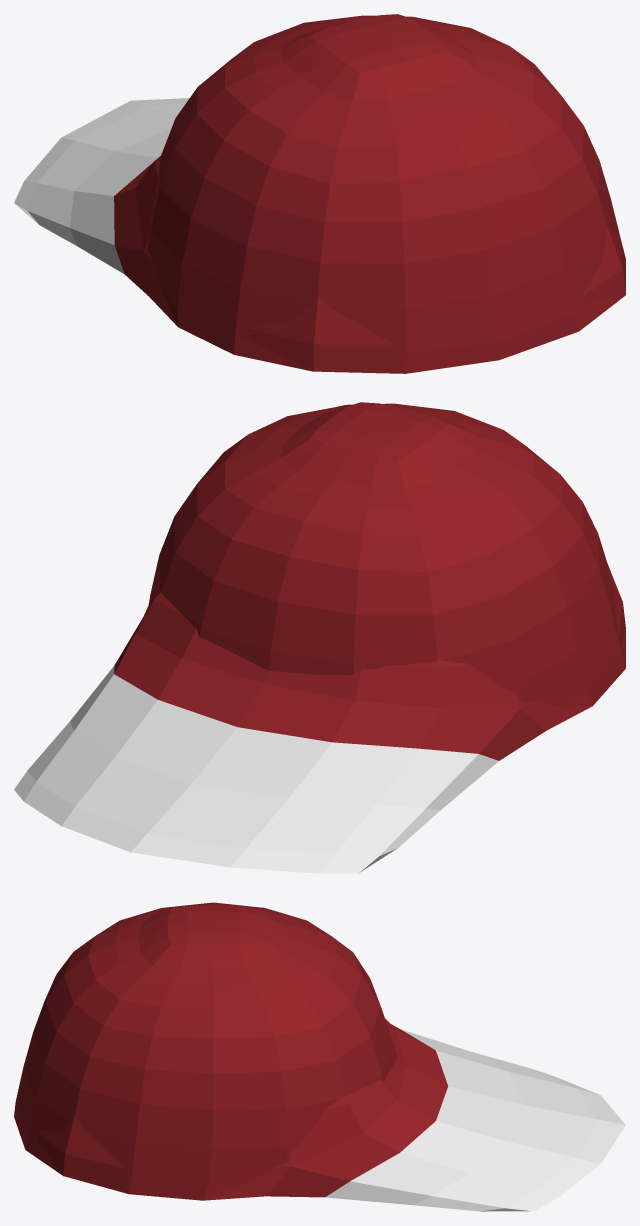
Rendered from chapeu_5.fbx.
3 views of the same model, one above another, from view 1: azimuth 30°, elevation 25°; view 2: azimuth 150°, elevation 25°; view 3: azimuth 270°, elevation 25° (orthographic). The views are drawn at different scales.
Parts seen in each view (by area): view 1: chapeu 5; view 2: chapeu 5; view 3: chapeu 5.
Part boxes in pixels (x1=…): chapeu 5: x1=14, y1=14, x2=625, y2=373; chapeu 5: x1=14, y1=402, x2=625, y2=873; chapeu 5: x1=14, y1=902, x2=625, y2=1211.
Bounding box in the file's own units: 287 × 175 × 441.
